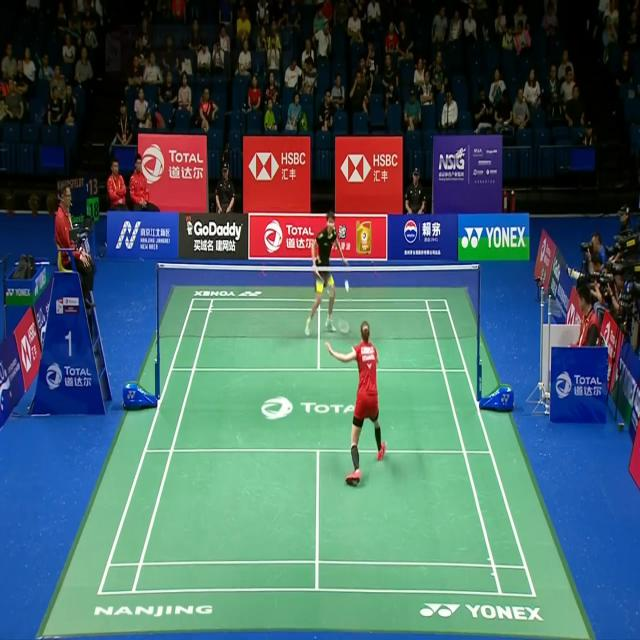Player1: (324, 316, 392, 496)
Player2: (304, 207, 349, 349)
